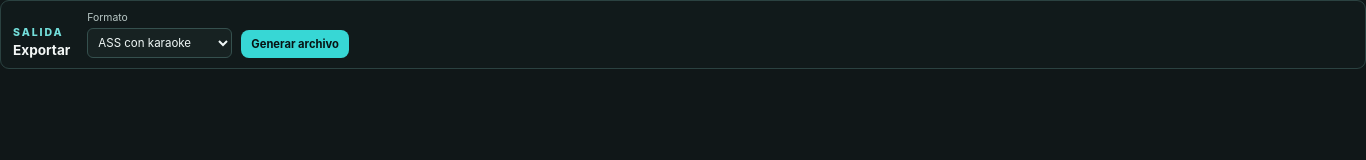
Scenario: export panel › flushes before generating and downloads SRT and ASS blobs
Click the button "Generar archivo".
click(295, 44)  # box [241,30,349,58]
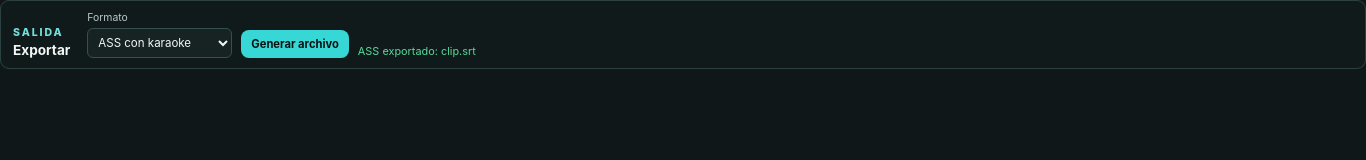
Expected: the message shows "ASS exportado", [358,44,476,58]
Select "SRT" in the dropdown named "Formato de exportación" at [160, 43], box [87,28,232,58]
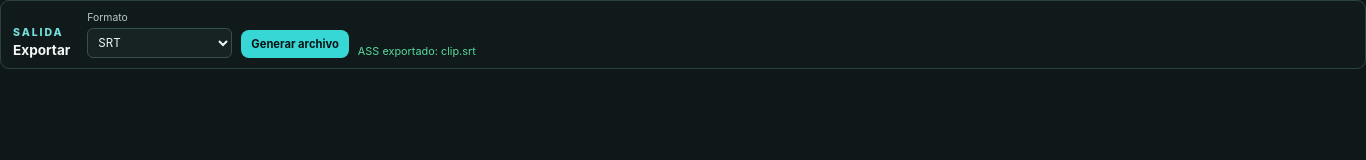
Click the button "Generar archivo".
click(295, 44)  # box [241,30,349,58]
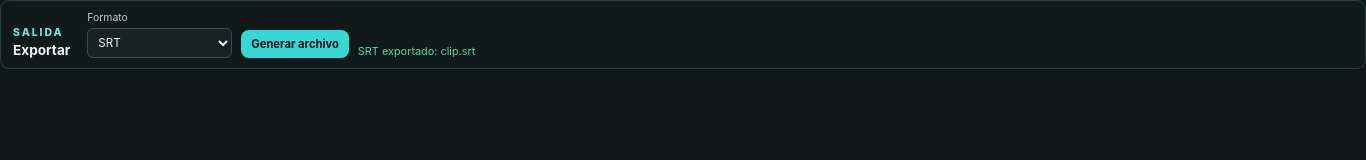
Expected: the message shows "SRT exportado", [358,44,475,58]
